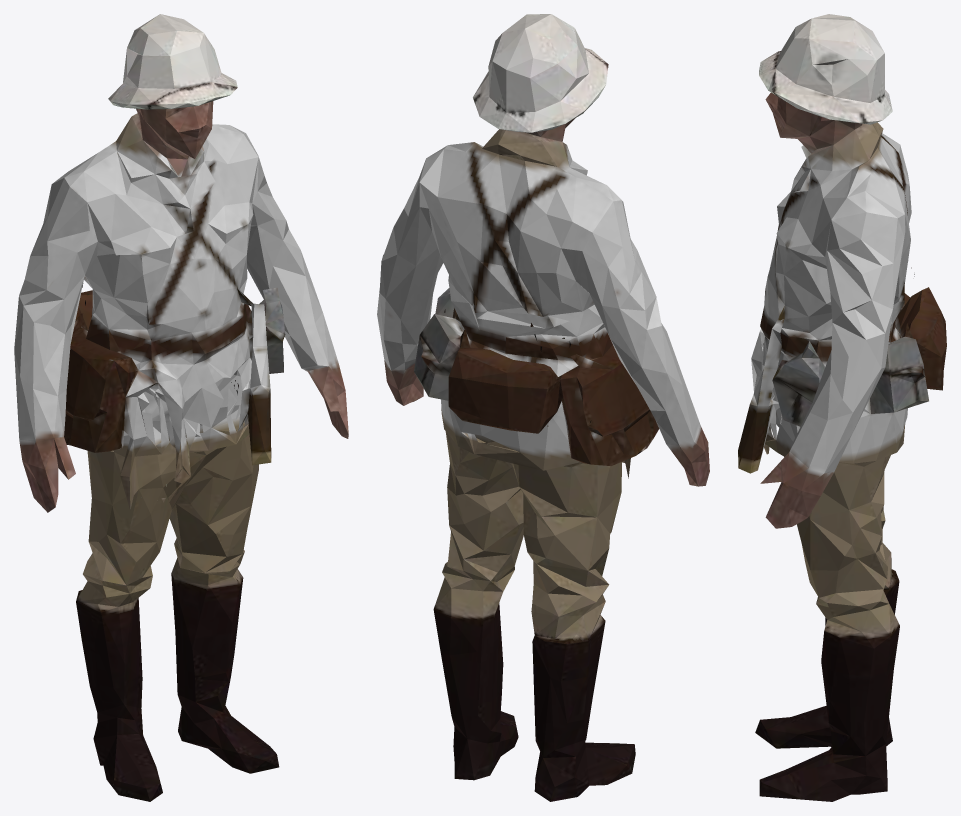
File: explorer.glb
3 renders of one model, left to right at view 1: azimuth 30°, elevation 25°; view 2: azimuth 150°, elevation 25°; view 3: azimuth 270°, elevation 25°, orthographic.
Visible parts, largest first — view 1: explorer; view 2: explorer; view 3: explorer.
Boxes of the visible parts, left/top/right/bottom form: explorer: left=14, top=14, right=348, bottom=801; explorer: left=377, top=14, right=709, bottom=801; explorer: left=738, top=14, right=946, bottom=801.
Size of the model in its own units: 0.7909 by 1.8 by 0.4557.
2 materials, 2 textured.
